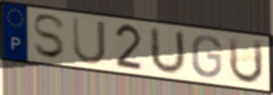2: (112, 22, 145, 73)
G: (190, 33, 224, 79)
S: (31, 13, 68, 61)
U: (148, 25, 187, 76), (70, 15, 108, 67), (227, 36, 265, 86)
